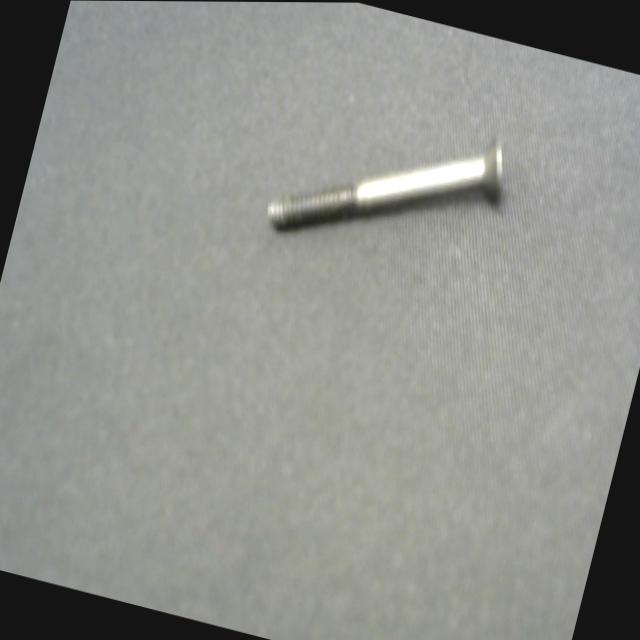FlatHeadSocketScrew: (250, 75, 528, 305)
